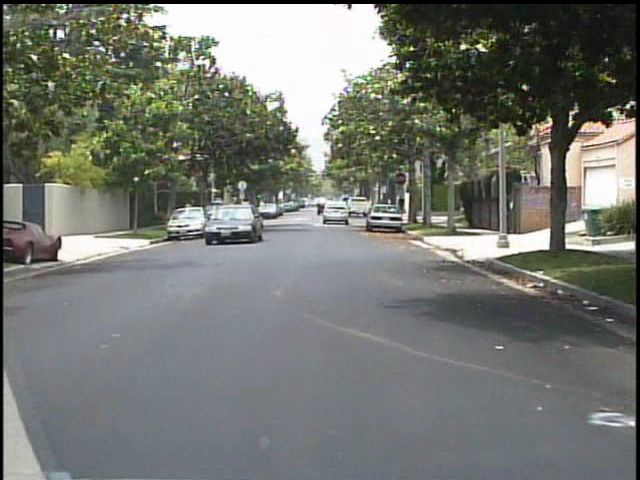person: (500, 192, 519, 237), (182, 198, 198, 232)
